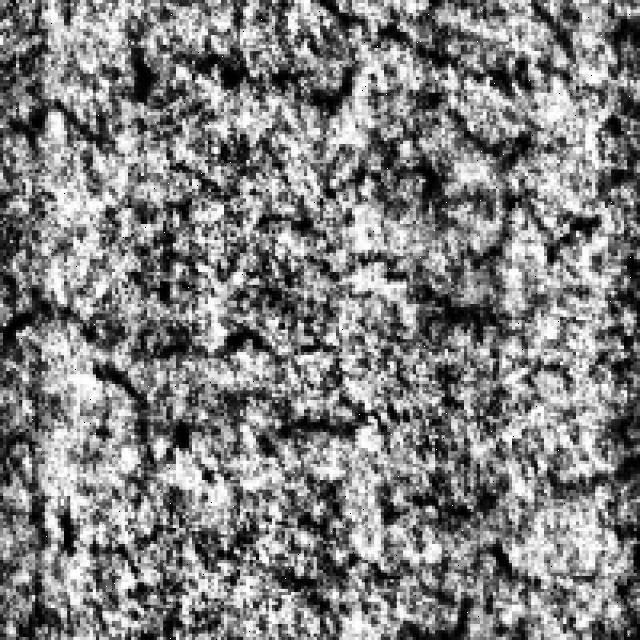Pitted_Surface: (9, 307, 596, 576), (109, 22, 605, 288)
